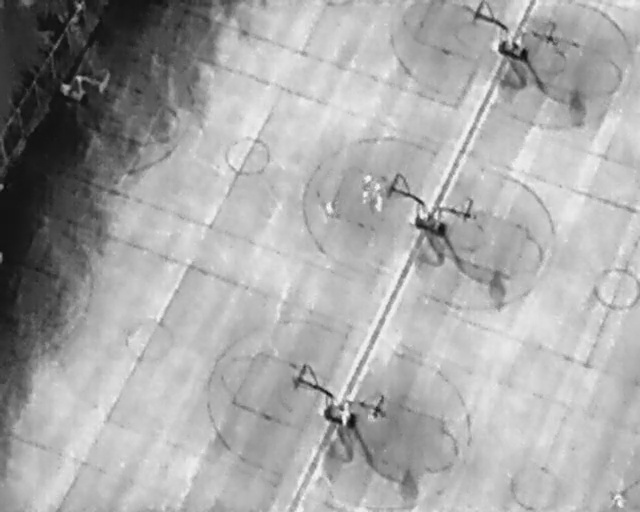Person: (360, 186, 370, 205), (616, 492, 626, 511), (376, 192, 385, 211), (363, 171, 373, 187), (325, 198, 333, 217), (375, 181, 381, 196)
